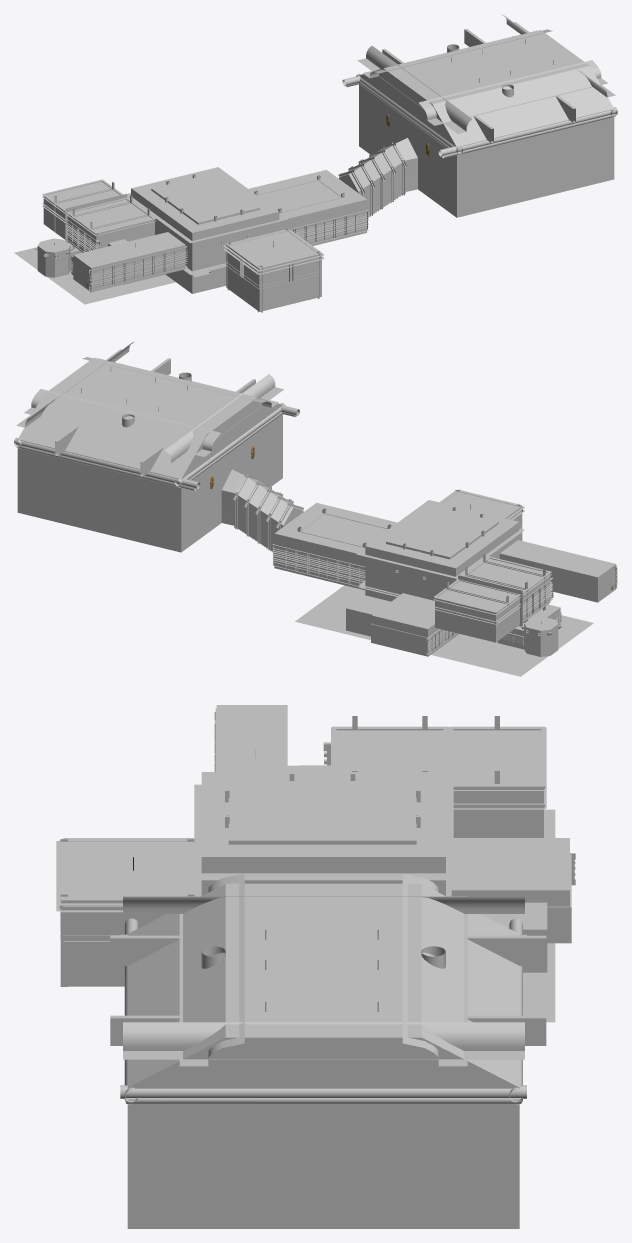
The model's file is TH_Stage.fbx.
The picture shows the model from 3 angles, top to bottom: view 1: azimuth 30°, elevation 25°; view 2: azimuth 150°, elevation 25°; view 3: azimuth 270°, elevation 25°; orthographic projection. The views are drawn at different scales.
Parts seen in each view (by area): view 1: polySurface115, polySurface13, polySurface116, polySurface117, polySurface114, pCube167, polySurface68, polySurface64, pPlane1, polySurface47, pCube217, polySurface10 (+5 smaller); view 2: polySurface115, polySurface13, polySurface116, polySurface114, pPlane1, polySurface9, pCube167, polySurface68, polySurface64, polySurface10, polySurface47, pCube137 (+4 smaller); view 3: polySurface115, polySurface13, pCube167, polySurface68, polySurface116, polySurface117, polySurface9, polySurface64, pCube276, polySurface47, pCube217, pPlane1 (+1 smaller).
Part boxes in pixels (x1,y1,x2,y2): polySurface115: (339,30,614,217); polySurface13: (43,181,185,292); polySurface116: (131,167,279,293); polySurface117: (226,231,321,311); polySurface114: (249,170,366,245); pCube167: (127,173,287,243); polySurface68: (357,14,615,133); polySurface64: (342,36,617,158); pPlane1: (14,240,175,304); polySurface47: (42,179,155,249); pCube217: (223,229,324,312); polySurface10: (37,238,165,284); polySurface115: (17,357,303,552); polySurface13: (435,540,616,642); polySurface116: (365,500,519,601); polySurface114: (274,503,397,590); pPlane1: (295,585,593,676); polySurface9: (346,593,459,656); pCube167: (356,506,524,578); polySurface68: (16,341,283,465); polySurface64: (14,364,299,490); polySurface10: (497,604,560,656); polySurface47: (434,554,551,624); pCube137: (272,544,365,586); polySurface115: (127,883,519,1228); polySurface13: (216,705,543,837); pCube167: (194,780,453,880); polySurface68: (123,873,524,1066); polySurface116: (201,772,445,895); polySurface117: (61,842,187,986); polySurface9: (450,838,571,972); polySurface64: (120,918,526,1104); pCube276: (110,935,546,1045); polySurface47: (331,716,546,809); pCube217: (56,838,198,986); pPlane1: (523,809,555,1022).
Bounding box in the file's own units: 1997 × 881 × 495.
